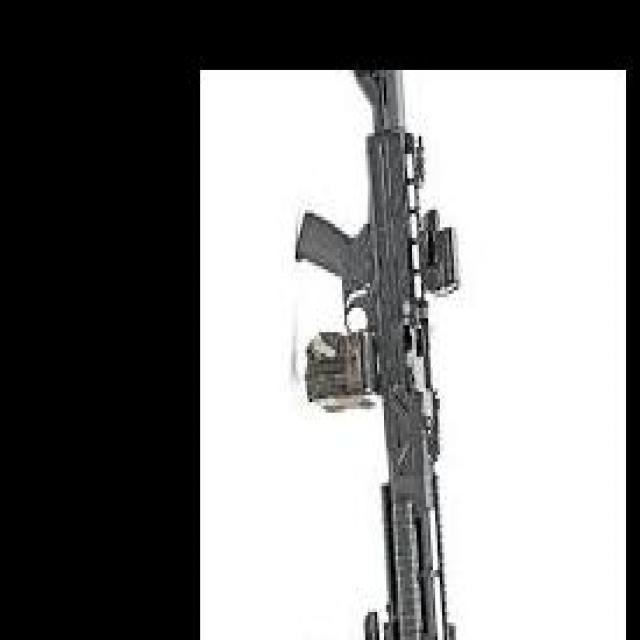weapon: (295, 70, 462, 640)
